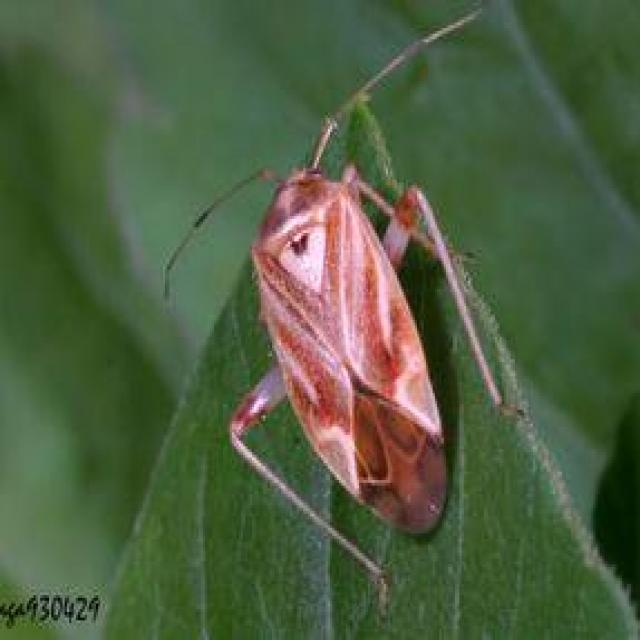Miridae-Adult-: (164, 39, 516, 591)
